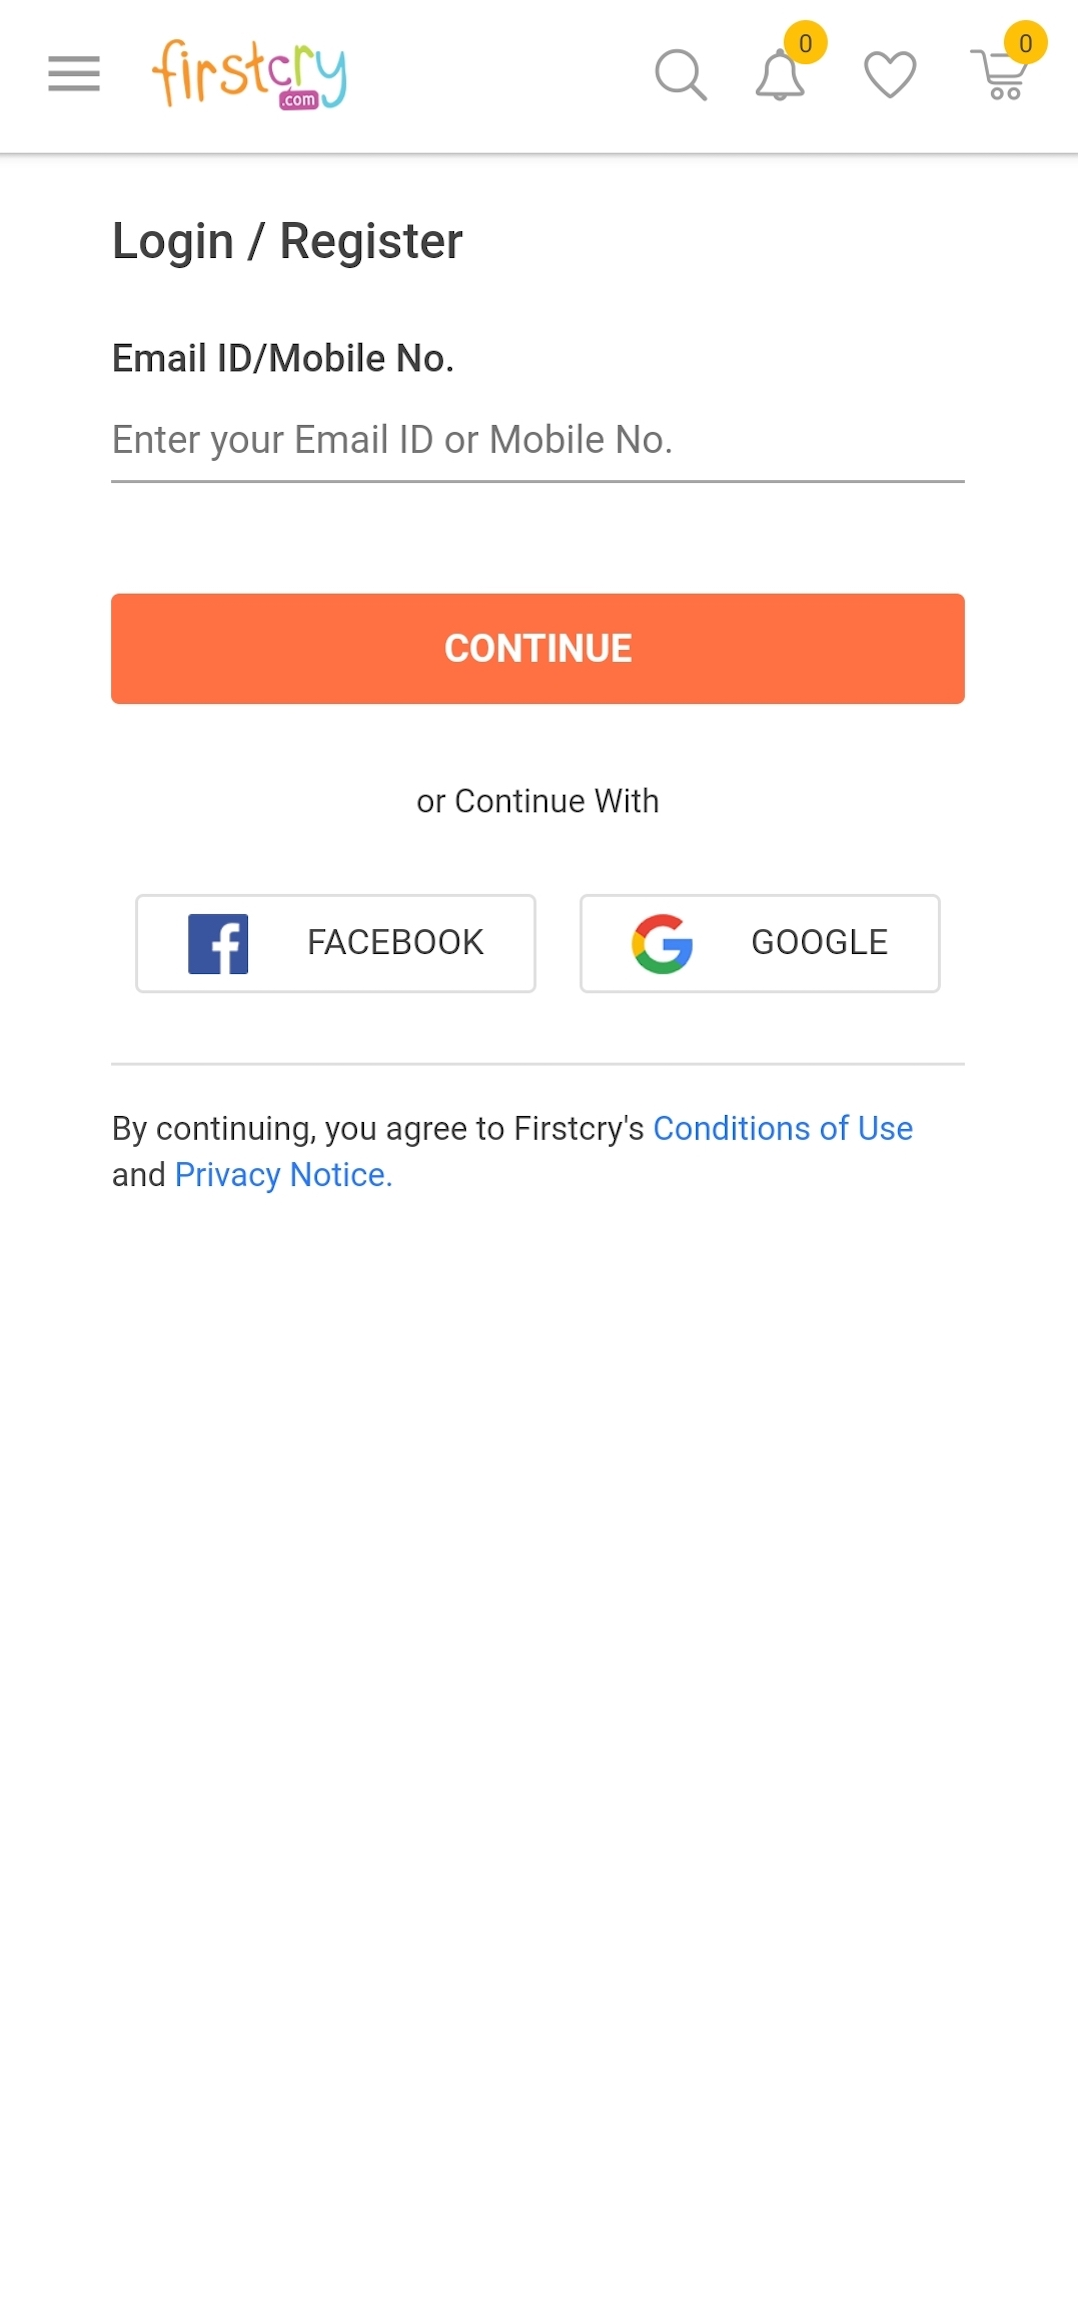Text: (140, 31, 358, 112), (272, 213, 465, 269), (439, 627, 642, 670), (214, 333, 390, 378), (105, 213, 236, 269), (651, 1108, 814, 1147), (299, 924, 489, 957), (747, 921, 895, 963), (510, 1105, 648, 1150), (150, 1110, 314, 1144), (454, 782, 589, 818), (485, 417, 613, 455), (169, 1153, 281, 1195), (292, 417, 392, 456), (108, 339, 211, 375), (286, 1155, 389, 1189), (109, 420, 200, 456), (206, 427, 287, 464), (395, 340, 458, 378), (591, 783, 663, 815), (383, 1117, 473, 1142), (610, 421, 673, 455), (208, 923, 246, 979), (859, 1111, 917, 1144), (390, 418, 437, 456), (321, 1117, 383, 1145), (106, 1111, 149, 1150), (108, 1161, 166, 1188), (808, 1111, 859, 1142), (440, 421, 483, 456), (471, 1111, 512, 1145), (242, 213, 268, 265), (415, 787, 451, 818), (281, 91, 317, 110)
